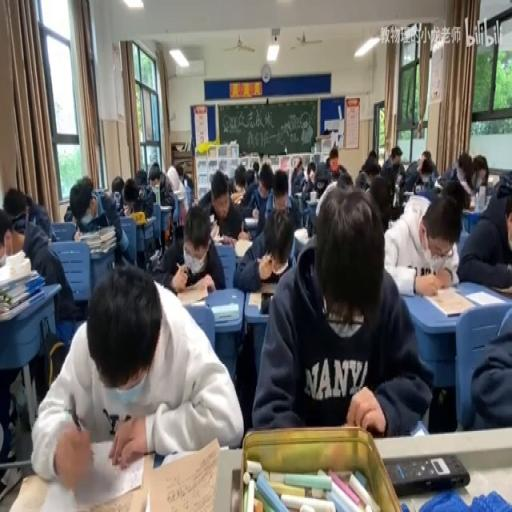calculator: (144, 438, 222, 512), (420, 286, 474, 314), (0, 289, 43, 320), (0, 268, 39, 292), (174, 279, 210, 303), (464, 288, 503, 306), (210, 300, 238, 322), (234, 236, 252, 256), (217, 232, 235, 246), (293, 228, 309, 243), (248, 292, 262, 307), (173, 184, 185, 200), (210, 219, 219, 240), (230, 189, 244, 202), (148, 248, 160, 263), (242, 215, 258, 226), (237, 228, 250, 240), (304, 196, 318, 206), (486, 175, 498, 186), (462, 205, 476, 213), (312, 150, 320, 164), (144, 216, 155, 225), (402, 191, 414, 199), (434, 176, 442, 188), (160, 204, 172, 210), (294, 190, 302, 198), (209, 213, 214, 222)
paper: (34, 263, 242, 484), (254, 184, 430, 442), (461, 294, 512, 432), (20, 214, 82, 326), (457, 170, 512, 291), (64, 176, 128, 268), (234, 205, 296, 290), (198, 170, 244, 244), (306, 165, 350, 236), (5, 186, 52, 242), (436, 151, 474, 202), (366, 174, 395, 230), (402, 148, 436, 192), (146, 164, 174, 214), (355, 150, 381, 188), (121, 176, 142, 215), (382, 145, 404, 182), (470, 155, 490, 193), (290, 158, 306, 195), (258, 161, 274, 196), (493, 171, 512, 199), (231, 164, 248, 194), (273, 173, 288, 202), (503, 203, 512, 249), (414, 186, 438, 202), (111, 176, 125, 200), (315, 169, 329, 192), (134, 168, 148, 186), (174, 160, 184, 184), (182, 172, 194, 189), (338, 164, 351, 179), (62, 206, 73, 222), (324, 156, 333, 174), (252, 159, 259, 178), (420, 149, 430, 161), (159, 175, 166, 188), (246, 168, 252, 183)
person: (384, 452, 468, 494), (259, 291, 273, 313)
